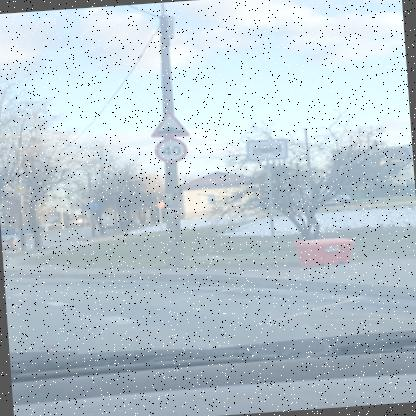speedlimit: (152, 136, 188, 162)
